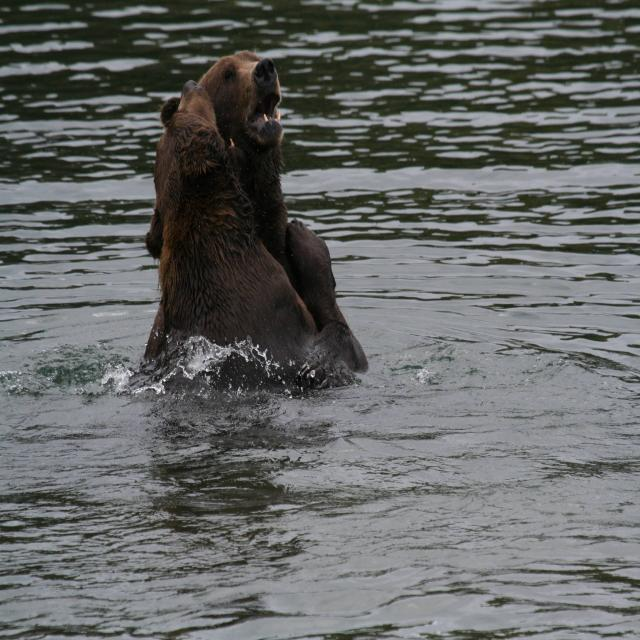bear face: (145, 87, 314, 366), (162, 49, 284, 151)
